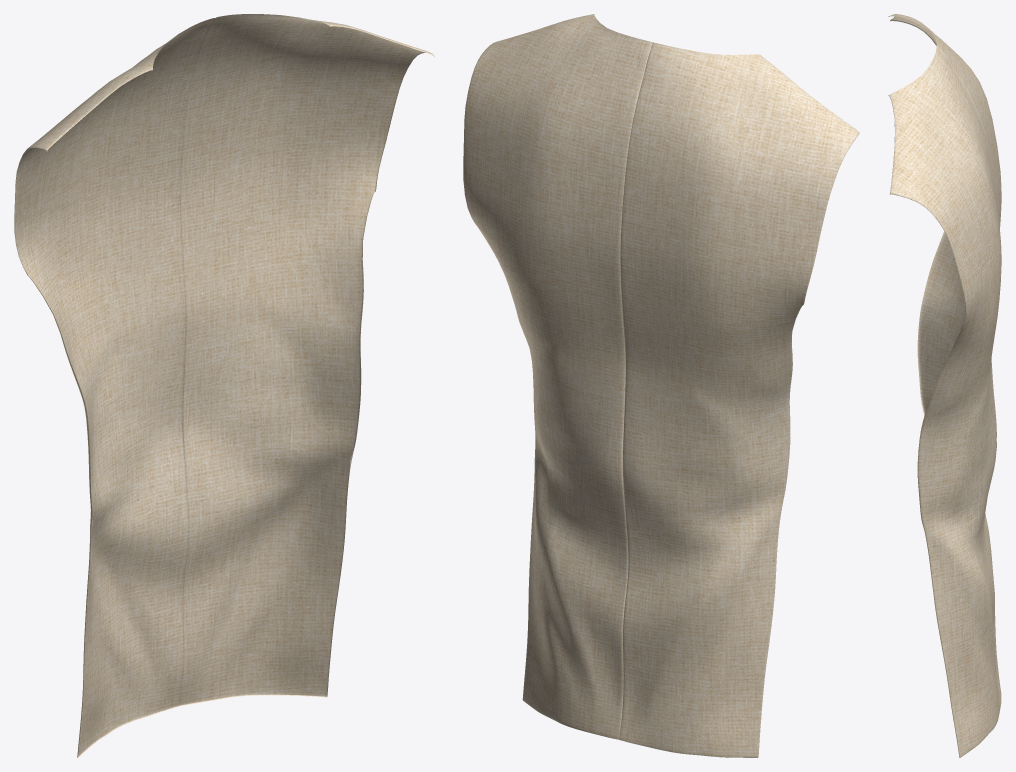
File: Double_vent.glb
3 views of the same model, side by side, from view 1: azimuth 30°, elevation 25°; view 2: azimuth 150°, elevation 25°; view 3: azimuth 270°, elevation 25° (orthographic). The views are drawn at different scales.
Parts seen in each view (by area): view 1: Double_vent; view 2: Double_vent; view 3: Double_vent.
Boxes of the visible parts, x1,y1,x2,y2 form: Double_vent: (14,14,434,757); Double_vent: (463,14,859,757); Double_vent: (888,14,1001,757).
Size of the model in its own units: 0.0591 by 0.1036 by 0.0162.
Materials: 1 (1 with a texture image).
